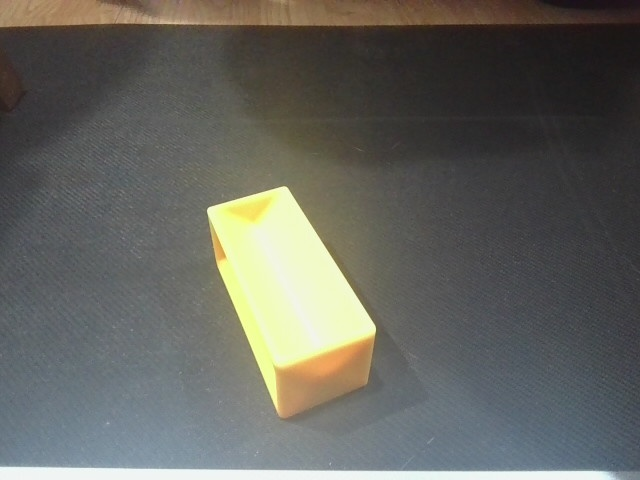YellowSample: (202, 182, 382, 421)
